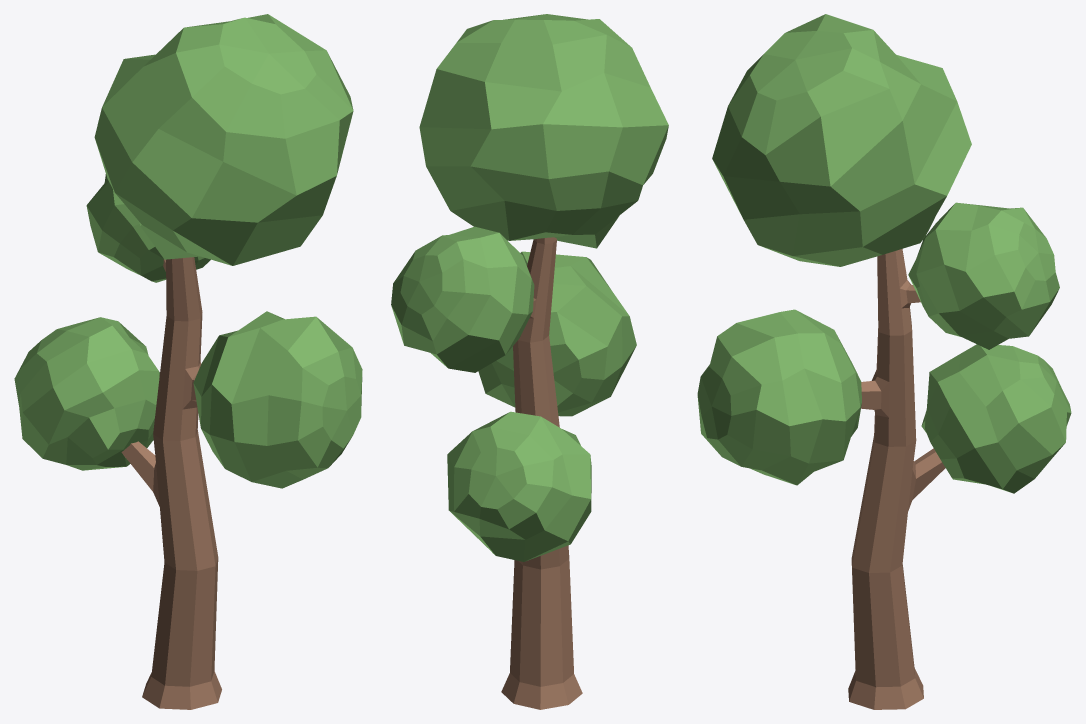
Rendered from Leaves_04.fbx.
3 views of the same model, side by side, from view 1: azimuth 30°, elevation 25°; view 2: azimuth 150°, elevation 25°; view 3: azimuth 270°, elevation 25° (orthographic). The views are drawn at different scales.
Parts seen in each view (by area): view 1: Leaves_04; view 2: Leaves_04; view 3: Leaves_04.
Boxes of the visible parts, box(x1,y1,x2,y2) form: Leaves_04: box(14, 14, 362, 709); Leaves_04: box(391, 14, 668, 709); Leaves_04: box(697, 14, 1071, 709).
Bounding box in the file's own units: 121 × 321 × 162.
